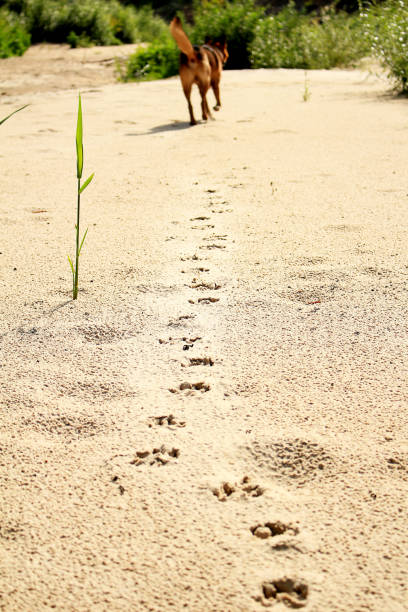animal_footprint: (249, 438, 345, 485), (255, 576, 308, 608), (212, 476, 264, 501), (130, 445, 179, 465), (250, 521, 298, 538), (158, 336, 201, 349), (148, 414, 185, 429), (169, 381, 210, 393), (189, 278, 220, 289), (167, 314, 195, 326), (111, 475, 125, 494), (189, 357, 214, 366), (199, 243, 225, 249), (197, 296, 218, 303), (180, 254, 201, 261), (203, 234, 227, 240), (191, 224, 214, 229), (190, 215, 209, 221), (193, 266, 209, 272)
